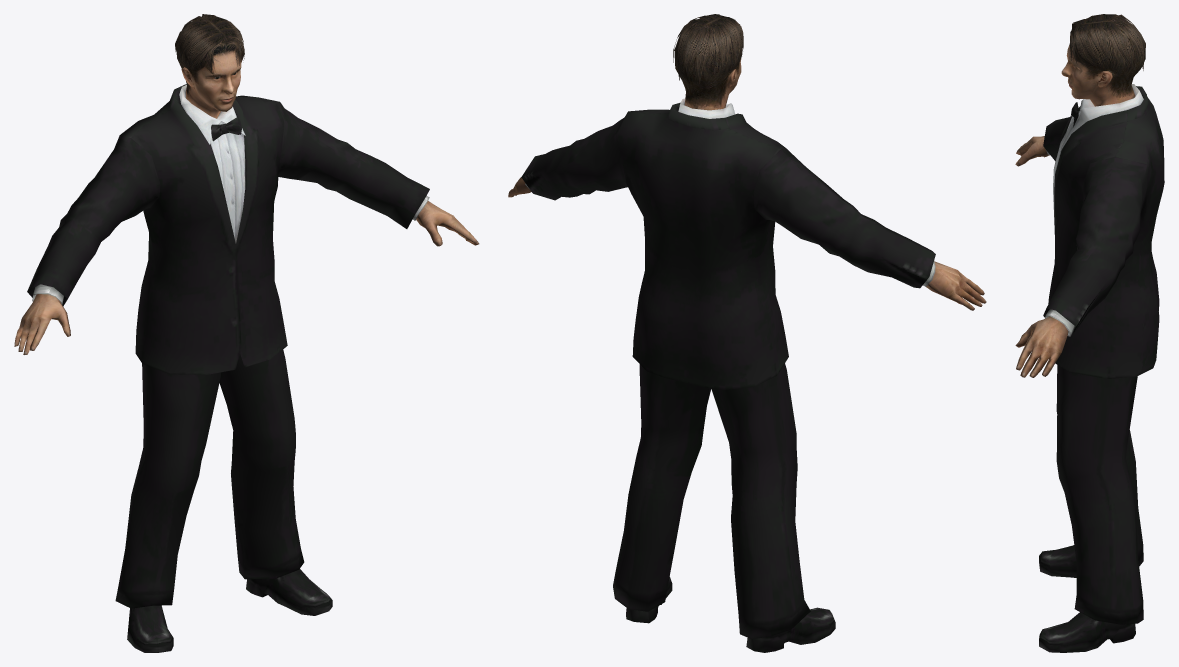
File: rectoria.glb
3 views of the same model, side by side, from view 1: azimuth 30°, elevation 25°; view 2: azimuth 150°, elevation 25°; view 3: azimuth 270°, elevation 25° (orthographic). The views are drawn at different scales.
Parts seen in each view (by area): view 1: Object_3, Object_2; view 2: Object_3, Object_2; view 3: Object_3, Object_2.
Part boxes in pixels (left/top/right/bottom): Object_3: left=27, top=84, right=429, bottom=652; Object_2: left=14, top=14, right=479, bottom=354; Object_3: left=521, top=102, right=935, bottom=652; Object_2: left=508, top=14, right=986, bottom=310; Object_3: left=1039, top=86, right=1164, bottom=652; Object_2: left=1015, top=14, right=1145, bottom=377.
Size of the model in its own units: 1.49 by 1.83 by 0.421.
2 materials, 2 textured.
